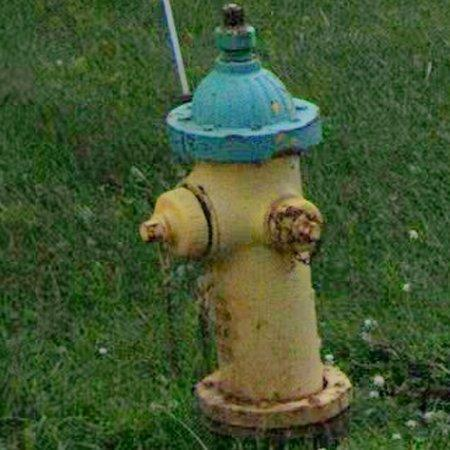a fire hydrant: (140, 4, 351, 436)
